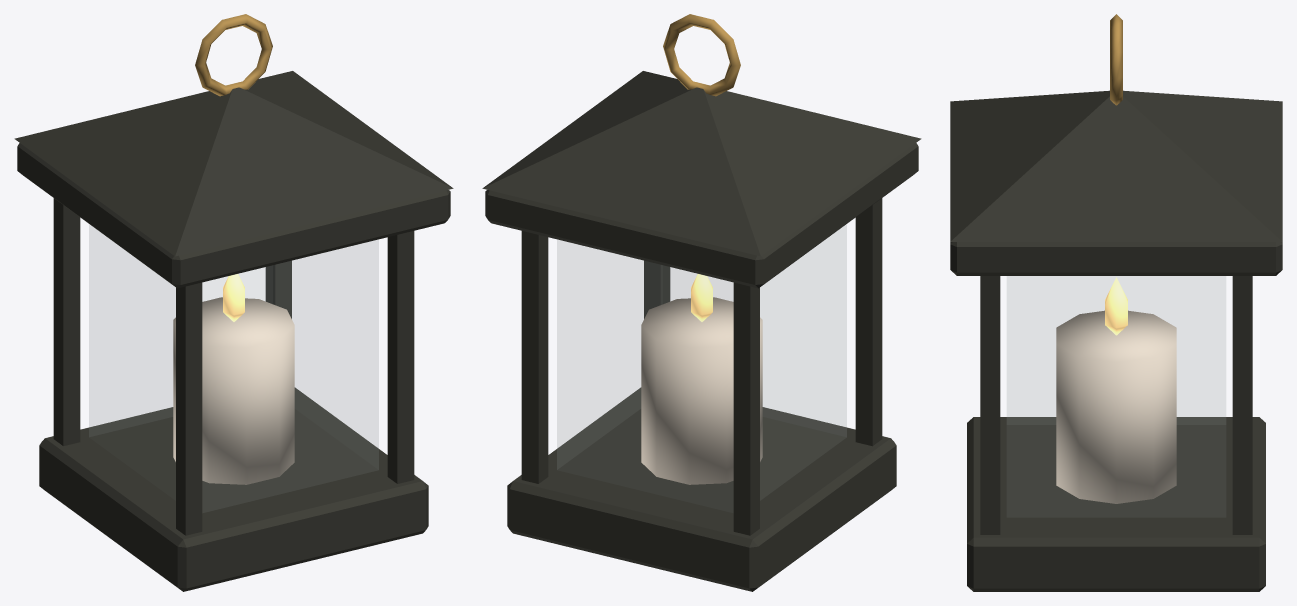
The model's file is lantern.glb.
3 renders of one model, left to right at view 1: azimuth 30°, elevation 25°; view 2: azimuth 150°, elevation 25°; view 3: azimuth 270°, elevation 25°, orthographic. The views are drawn at different scales.
Visible parts, largest first — view 1: lantern_roof, lantern_base, lantern_glass, lantern_candle, lantern_roof_rim, lantern_post_0.076_-0.076, lantern_post_-0.076_-0.076, lantern_post_-0.076_0.076, lantern_handle, lantern_post_0.076_0.076, lantern_flame; view 2: lantern_roof, lantern_base, lantern_glass, lantern_candle, lantern_roof_rim, lantern_post_0.076_0.076, lantern_post_-0.076_0.076, lantern_post_-0.076_-0.076, lantern_handle, lantern_post_0.076_-0.076, lantern_flame; view 3: lantern_roof, lantern_base, lantern_candle, lantern_glass, lantern_roof_rim, lantern_post_0.076_0.076, lantern_post_0.076_-0.076, lantern_handle, lantern_flame.
Part boxes in pixels (<box>): lantern_roof: <box>14,71,453,256</box>; lantern_base: <box>39,387,428,591</box>; lantern_glass: <box>89,224,378,469</box>; lantern_candle: <box>173,297,294,484</box>; lantern_roof_rim: <box>17,143,450,288</box>; lantern_post_0.076_-0.076: <box>387,231,414,483</box>; lantern_post_-0.076_-0.076: <box>176,282,202,535</box>; lantern_post_-0.076_0.076: <box>53,198,80,446</box>; lantern_handle: <box>195,14,272,96</box>; lantern_post_0.076_0.076: <box>265,260,291,318</box>; lantern_flame: <box>223,274,244,321</box>; lantern_roof: <box>482,71,921,256</box>; lantern_base: <box>507,387,896,591</box>; lantern_glass: <box>557,224,846,469</box>; lantern_candle: <box>641,297,762,484</box>; lantern_roof_rim: <box>485,143,918,288</box>; lantern_post_0.076_0.076: <box>521,231,548,483</box>; lantern_post_-0.076_0.076: <box>733,282,759,535</box>; lantern_post_-0.076_-0.076: <box>855,198,882,446</box>; lantern_handle: <box>663,14,740,96</box>; lantern_post_0.076_-0.076: <box>644,260,670,318</box>; lantern_flame: <box>691,274,712,321</box>; lantern_roof: <box>950,90,1282,241</box>; lantern_base: <box>967,417,1265,591</box>; lantern_candle: <box>1056,310,1176,503</box>; lantern_glass: <box>1007,276,1225,424</box>; lantern_roof_rim: <box>950,242,1282,275</box>; lantern_post_0.076_0.076: <box>1232,276,1252,534</box>; lantern_post_0.076_-0.076: <box>980,276,1000,534</box>; lantern_handle: <box>1110,14,1122,105</box>; lantern_flame: <box>1105,277,1127,335</box>.
Size of the model in its own units: 0.2 by 0.3396 by 0.2.
